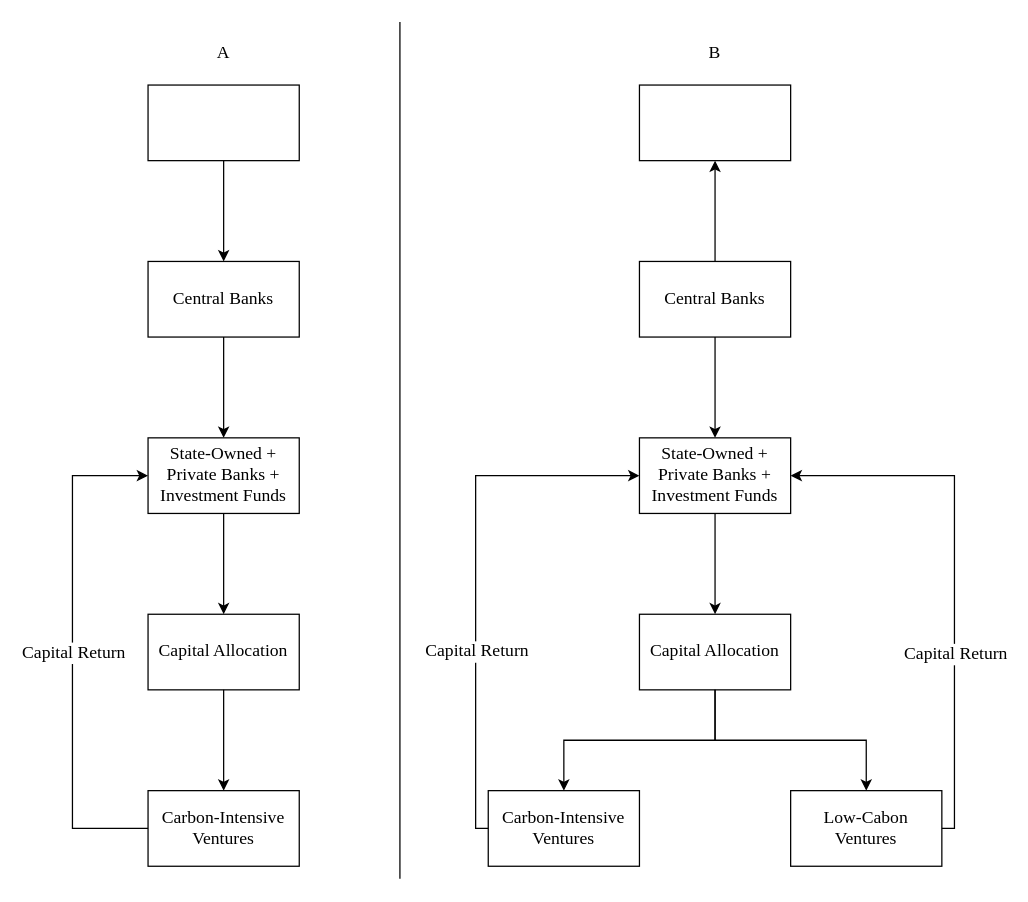
This 1028x902 diagram has some shape labels left out. The centre of each missing label's shape, as x and y in pixels:
Standard and "Green" Industrial Policy Pathways: pixel 714 122
Standard Industrial Policy Pathways: pixel 223 122
